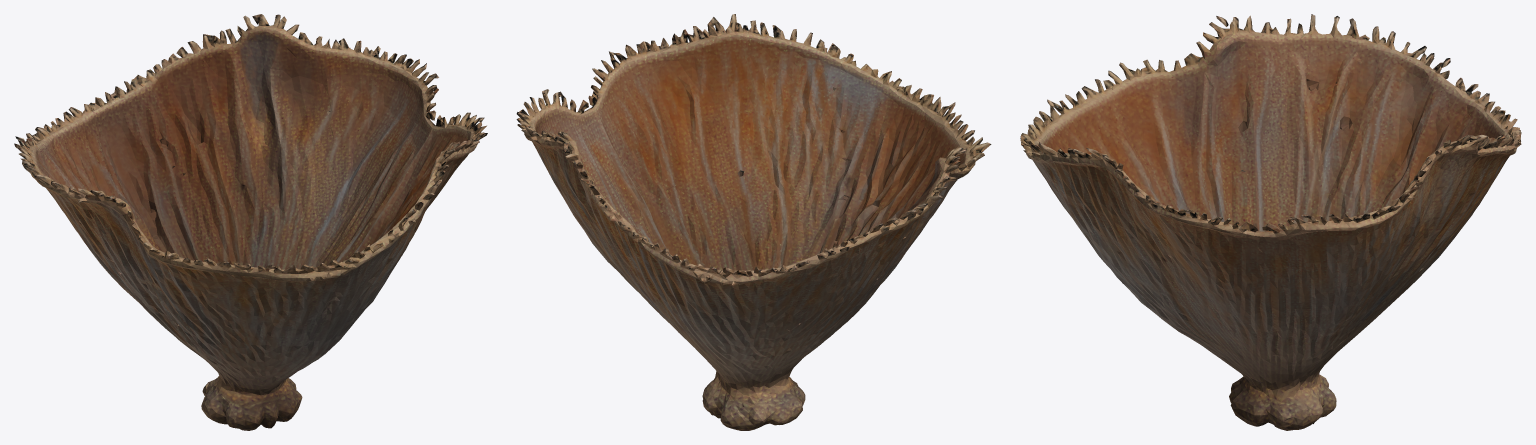
The picture shows the model from 3 angles, left to right: view 1: azimuth 30°, elevation 25°; view 2: azimuth 150°, elevation 25°; view 3: azimuth 270°, elevation 25°; orthographic projection. The views are drawn at different scales.
Visible parts, largest first — view 1: world; view 2: world; view 3: world.
Boxes of the visible parts, x1=… form: world: x1=14, y1=14, x2=487, y2=430; world: x1=516, y1=14, x2=991, y2=430; world: x1=1020, y1=14, x2=1521, y2=430.
Bounding box in the file's own units: 0.984 × 0.7348 × 1.
1 material, 1 textured.
